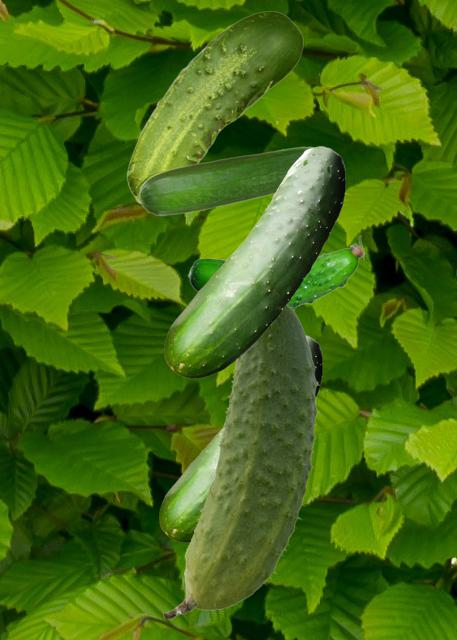cucumber: (163, 304, 318, 618), (164, 146, 344, 377), (126, 11, 302, 204), (159, 335, 321, 541), (187, 235, 363, 308), (138, 146, 314, 215)
